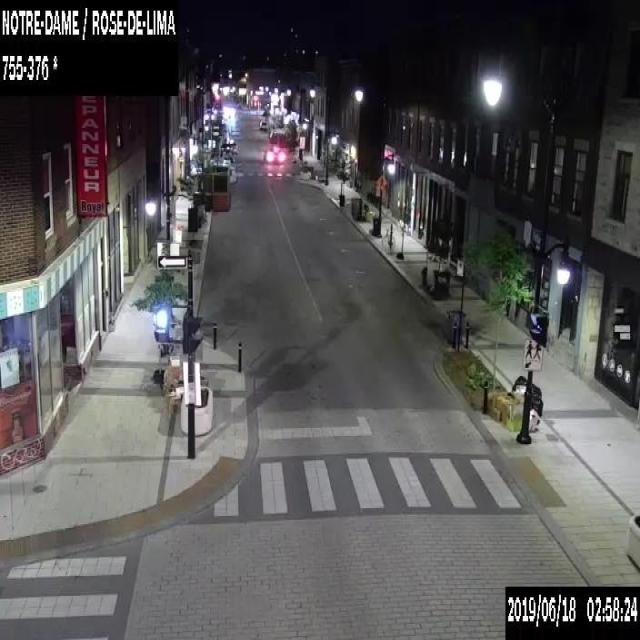vehicle: (262, 145, 284, 163), (259, 119, 267, 128)
